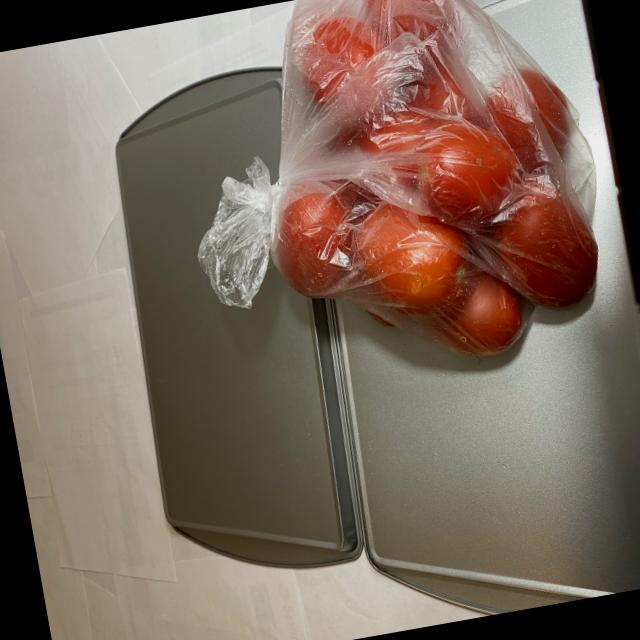tomato: (230, 0, 628, 390)
